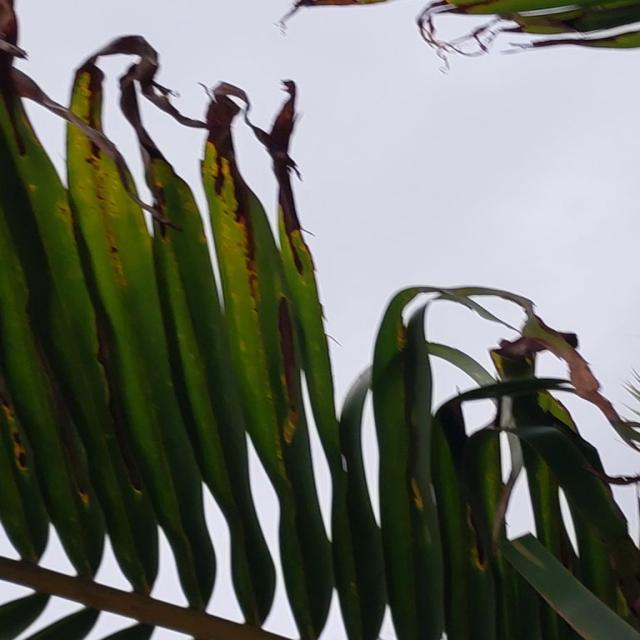leaf rot: (367, 270, 640, 507), (4, 42, 326, 178)
